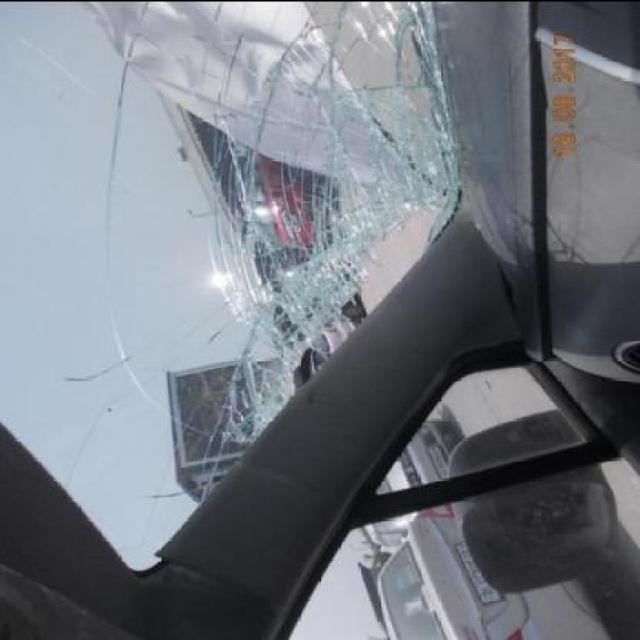damage: (230, 0, 464, 448)
